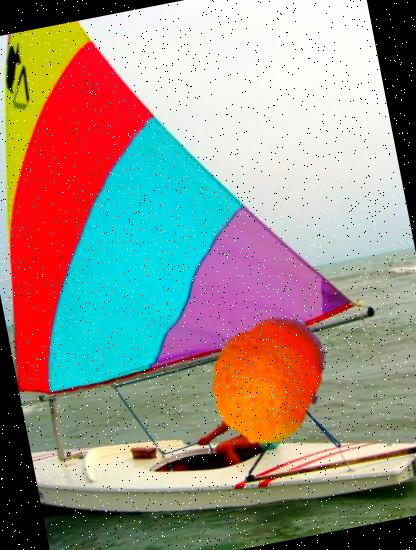Mandarine: (190, 300, 345, 455)
